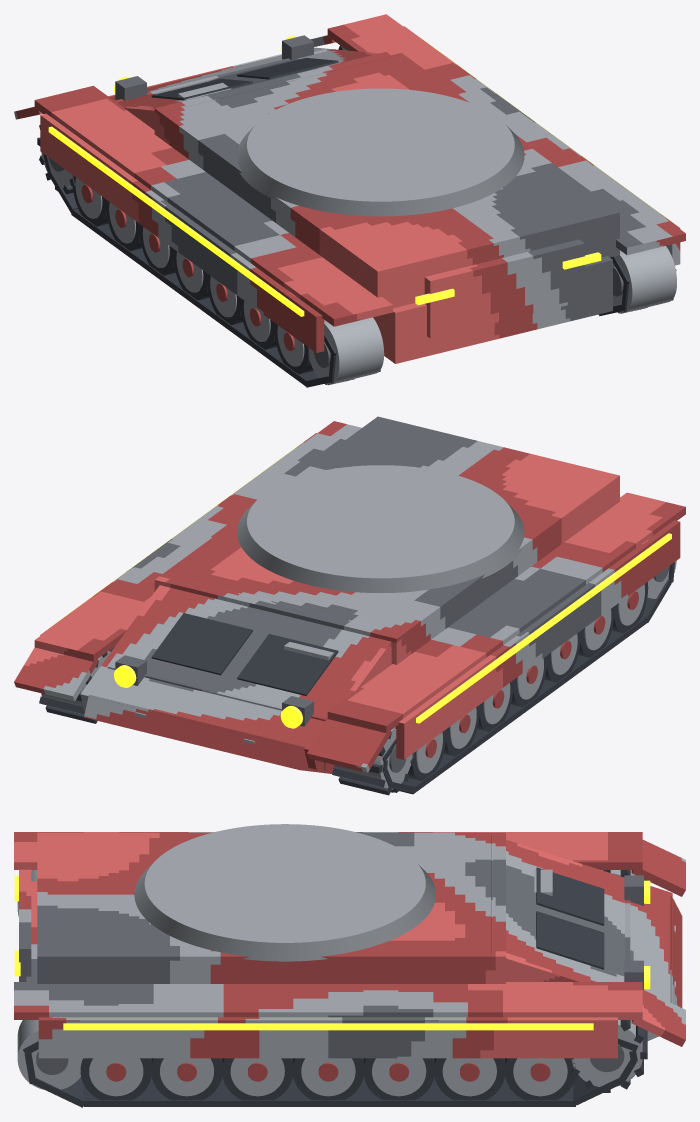
The model's file is Explosion_hull.glb.
3 views of the same model, one above another, from view 1: azimuth 30°, elevation 25°; view 2: azimuth 150°, elevation 25°; view 3: azimuth 270°, elevation 25° (orthographic). The views are drawn at different scales.
Parts seen in each view (by area): view 1: Explosion_Hull; view 2: Explosion_Hull; view 3: Explosion_Hull.
Boxes of the visible parts, box(x1,y1,x2,y2) form: Explosion_Hull: box(14, 14, 685, 387); Explosion_Hull: box(14, 416, 685, 795); Explosion_Hull: box(14, 824, 685, 1107).
Bounding box in the file's own units: 3.64 × 1.26 × 5.45.
